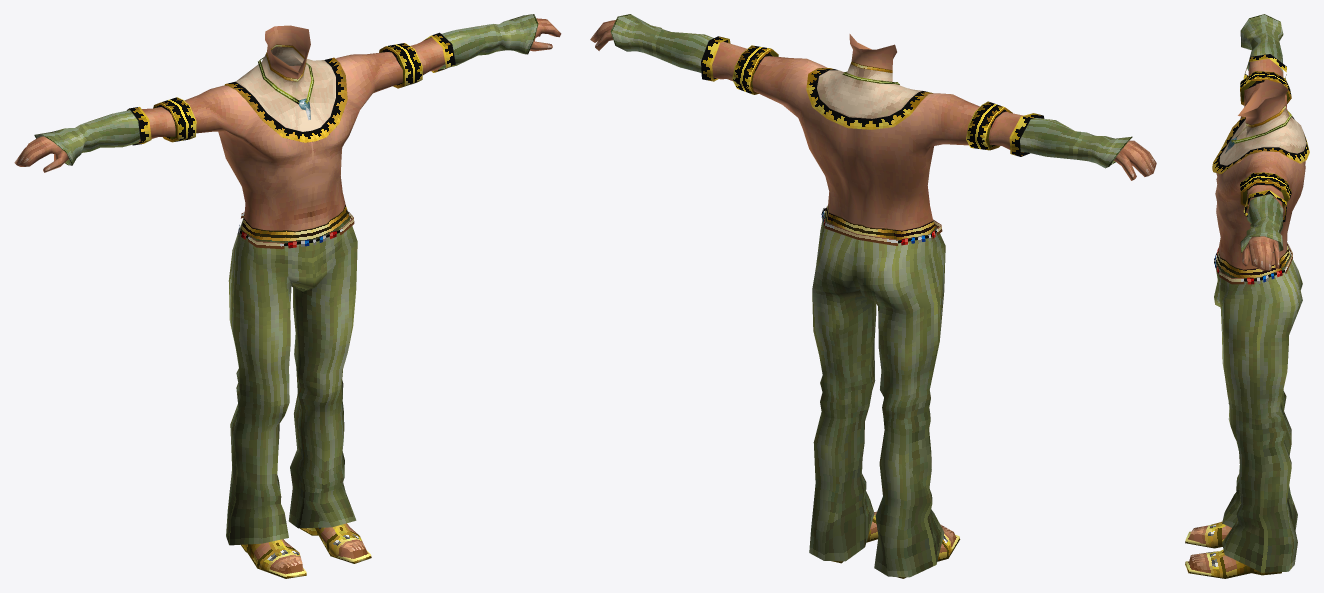
File: m_body025.obj
3 renders of one model, left to right at view 1: azimuth 30°, elevation 25°; view 2: azimuth 150°, elevation 25°; view 3: azimuth 270°, elevation 25°, orthographic. The views are drawn at different scales.
Visible parts, largest first — view 1: editpl_m-0000-98, editpl_m-0000-97, editpl_m-0000-96; view 2: editpl_m-0000-98, editpl_m-0000-97, editpl_m-0000-96; view 3: editpl_m-0000-98, editpl_m-0000-97, editpl_m-0000-96.
Boxes of the visible parts, x1,y1,x2,y2 form: editpl_m-0000-98: (226,205,371,578); editpl_m-0000-97: (184,25,402,231); editpl_m-0000-96: (14,14,561,172); editpl_m-0000-98: (809,205,960,578); editpl_m-0000-97: (752,34,979,230); editpl_m-0000-96: (590,14,1156,180); editpl_m-0000-98: (1185,242,1302,578); editpl_m-0000-97: (1212,79,1309,269); editpl_m-0000-96: (1240,14,1291,270).
Size of the model in its own units: 177 by 158 by 38.31.
3 materials, 3 textured.
